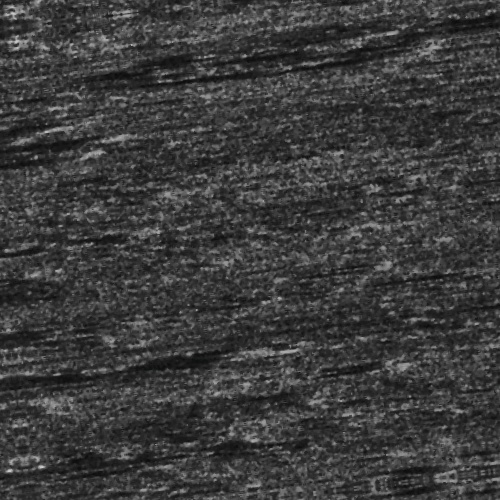object: (193, 344, 266, 357), (394, 66, 467, 77), (0, 47, 25, 70), (74, 127, 137, 136), (79, 114, 142, 123)
shadow: (0, 344, 229, 357), (218, 66, 431, 77), (0, 114, 110, 123), (0, 127, 105, 136)
